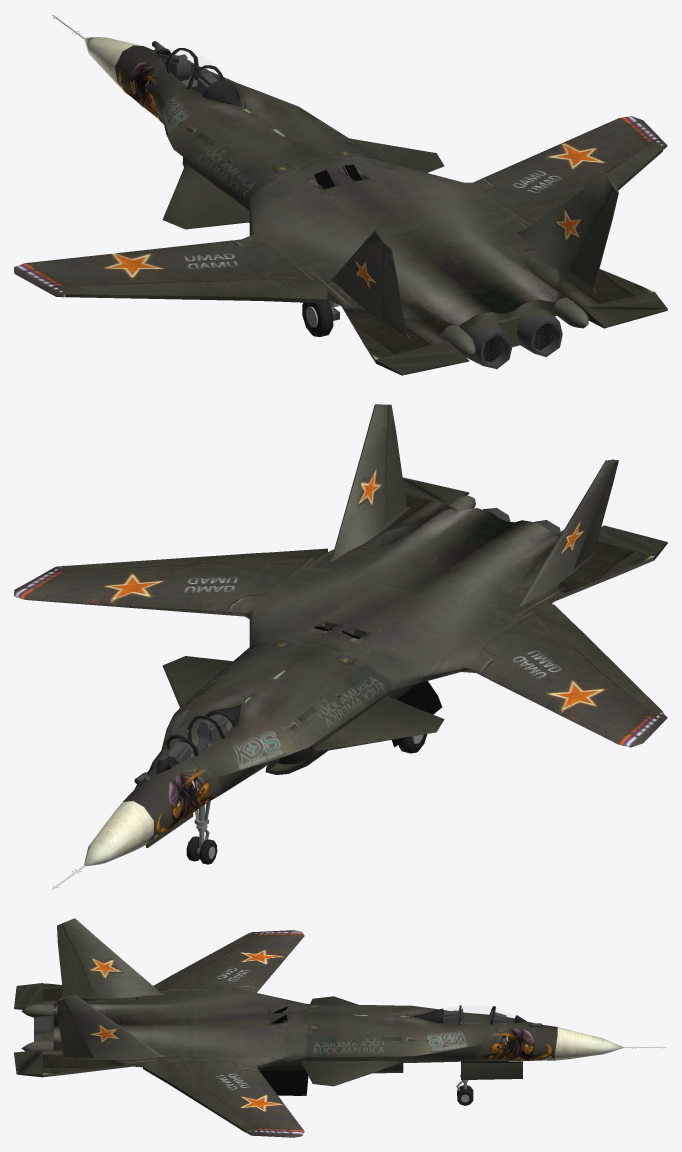
3 renders of one model, top to bottom at view 1: azimuth 30°, elevation 25°; view 2: azimuth 150°, elevation 25°; view 3: azimuth 270°, elevation 25°, orthographic. The views are drawn at different scales.
Parts seen in each view (by area): view 1: fuselage, aileron_g_2, object 18, propulseurs, moustache_g_2, object 19, commades, gouverne_profond__g, gouverne_profond__d, gouverne_direct_d, moustache_g, gouverne_direct_g (+2 smaller); view 2: fuselage, object 18, object 19, moustache_g_2, aileron_g_2, commades, aileron_g, moustache_g, propulseurs, gouverne_direct_d, gouverne_profond__g, gouverne_profond__d (+2 smaller); view 3: fuselage, object 19, object 18, aileron_g, moustache_g, propulseurs, gouverne_direct_g, trappe_av, trappe_ar_d, gouverne_direct_d, commades, aileron_g_2 (+2 smaller).
Boxes of the visible parts, x1,y1,x2,y2 form: fuselage: [14, 37, 667, 362]; aileron_g_2: [56, 280, 328, 303]; object 18: [516, 173, 618, 292]; propulseurs: [182, 157, 562, 368]; moustache_g_2: [162, 164, 249, 229]; object 19: [330, 229, 409, 338]; commades: [152, 41, 245, 109]; gouverne_profond__g: [375, 340, 469, 375]; gouverne_profond__d: [582, 292, 667, 328]; gouverne_direct_d: [569, 210, 612, 288]; moustache_g: [349, 138, 444, 172]; gouverne_direct_g: [381, 264, 406, 333]; fuselage: [14, 495, 667, 866]; object 18: [329, 404, 409, 561]; object 19: [517, 459, 618, 606]; moustache_g_2: [314, 695, 444, 752]; aileron_g_2: [531, 601, 662, 717]; commades: [134, 693, 246, 783]; aileron_g: [56, 548, 327, 570]; moustache_g: [162, 656, 232, 707]; propulseurs: [265, 508, 560, 774]; gouverne_direct_d: [385, 431, 406, 522]; gouverne_profond__g: [597, 525, 667, 559]; gouverne_profond__d: [402, 477, 469, 504]; fuselage: [21, 930, 623, 1137]; object 19: [57, 918, 164, 998]; object 18: [57, 994, 165, 1059]; aileron_g: [143, 1061, 257, 1132]; moustache_g: [301, 1060, 400, 1086]; propulseurs: [34, 1015, 403, 1073]; gouverne_direct_g: [58, 944, 93, 995]; trappe_av: [461, 1061, 522, 1079]; trappe_ar_d: [260, 1071, 308, 1095]; gouverne_direct_d: [58, 1015, 93, 1057]; commades: [405, 1005, 542, 1027]; aileron_g_2: [153, 933, 257, 990].
Size of the model in its own units: 3.67 by 1.21 by 4.9.
Materials: 19 (17 with a texture image).
